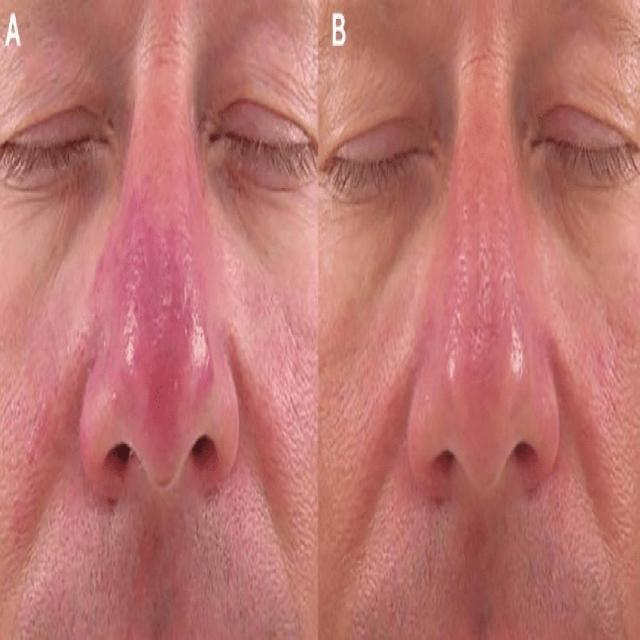Rosacea: (0, 168, 317, 640), (321, 192, 640, 640)
